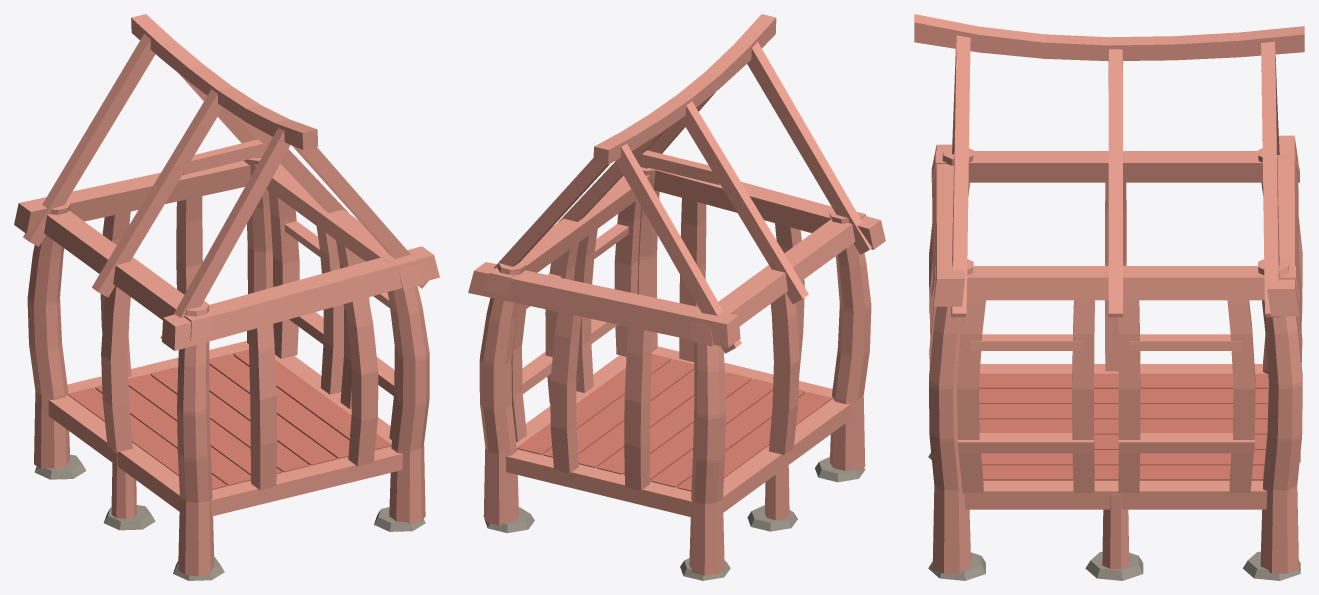
The model's file is frame.glb.
3 renders of one model, left to right at view 1: azimuth 30°, elevation 25°; view 2: azimuth 150°, elevation 25°; view 3: azimuth 270°, elevation 25°, orthographic. The views are drawn at different scales.
Visible parts, largest first — view 1: timber_frame, stilts_sills, floor, stone_pads; view 2: timber_frame, stilts_sills, floor, stone_pads; view 3: timber_frame, floor, stilts_sills, stone_pads.
Boxes of the visible parts, <box> form: timber_frame: <box>14,14,439,502</box>; stilts_sills: <box>34,340,425,576</box>; floor: <box>67,349,391,489</box>; stone_pads: <box>34,454,425,580</box>; timber_frame: <box>468,14,885,504</box>; stilts_sills: <box>483,345,865,575</box>; floor: <box>517,354,832,491</box>; stone_pads: <box>484,457,865,580</box>; timber_frame: <box>914,14,1304,492</box>; floor: <box>979,373,1267,480</box>; stilts_sills: <box>932,364,1298,573</box>; stone_pads: <box>928,453,1300,580</box>.
Size of the model in its own units: 2.76 by 4.26 by 3.08.
